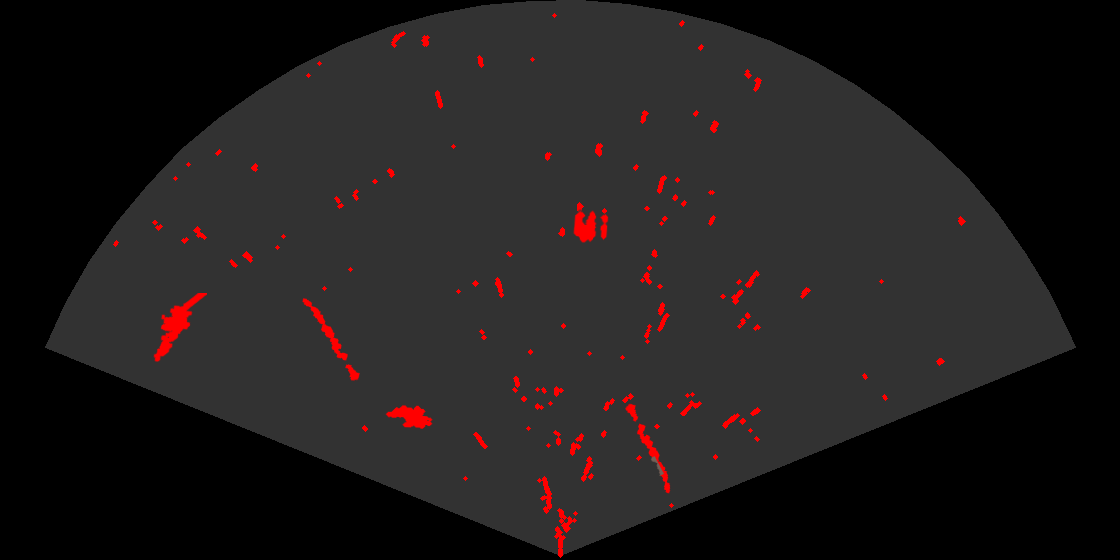AUV: (384, 404, 434, 430)
ball: (572, 209, 610, 244)
chain: (301, 297, 361, 383), (624, 402, 672, 495)
frogman: (152, 293, 207, 364)
